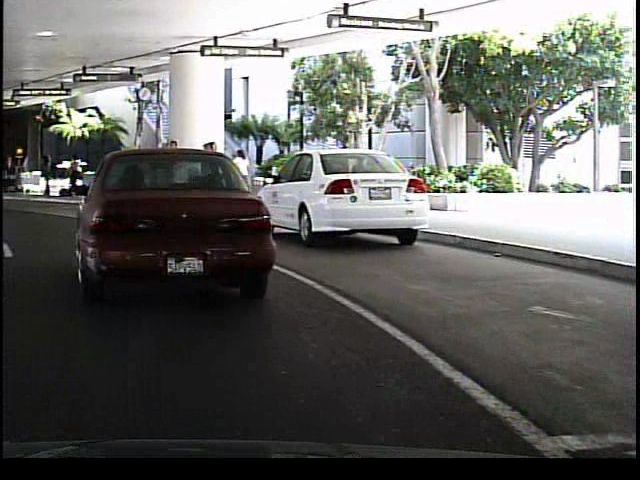person: (193, 136, 218, 211), (157, 135, 182, 207), (226, 145, 254, 203), (37, 149, 56, 202), (62, 155, 83, 196)
